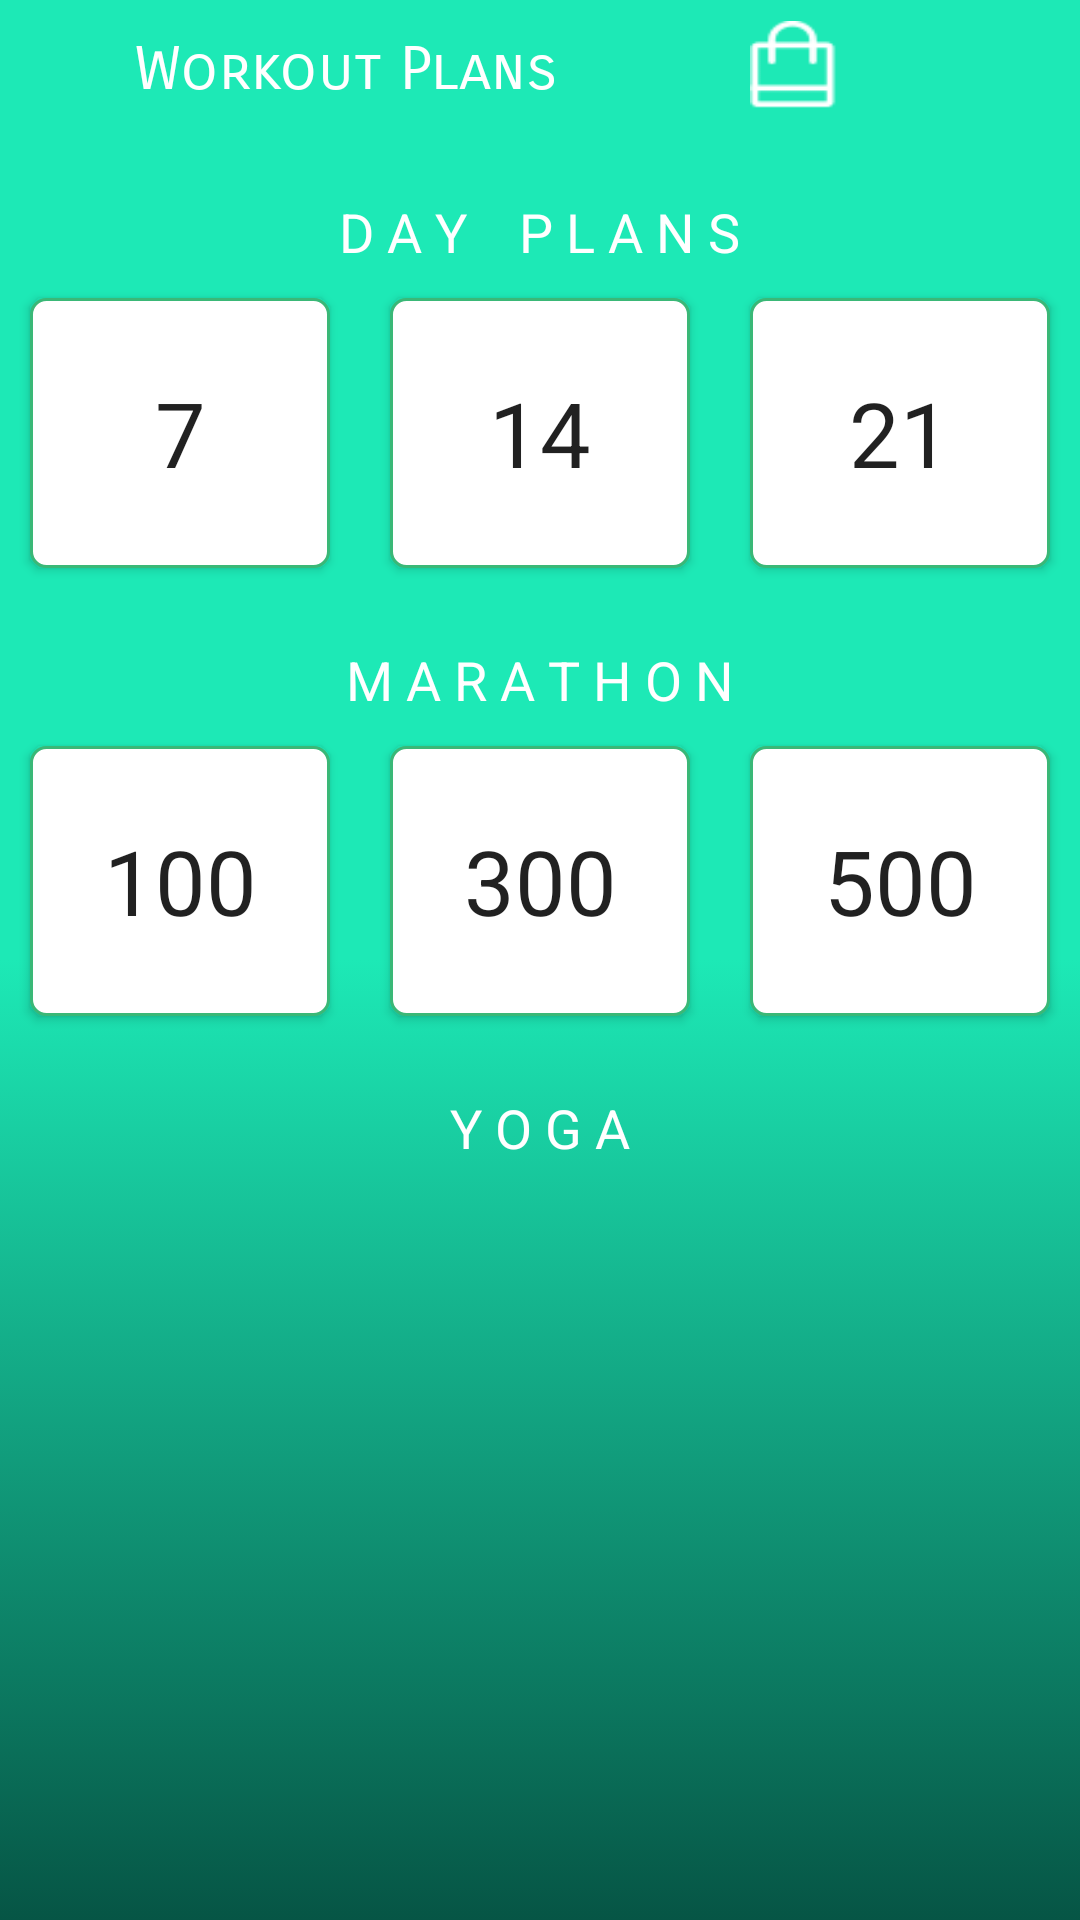

Screen size 1080×1920. Icon name, then its box in pixels as BBox(x1, y1, x2, y2):
storeicon: BBox(750, 21, 836, 108)
